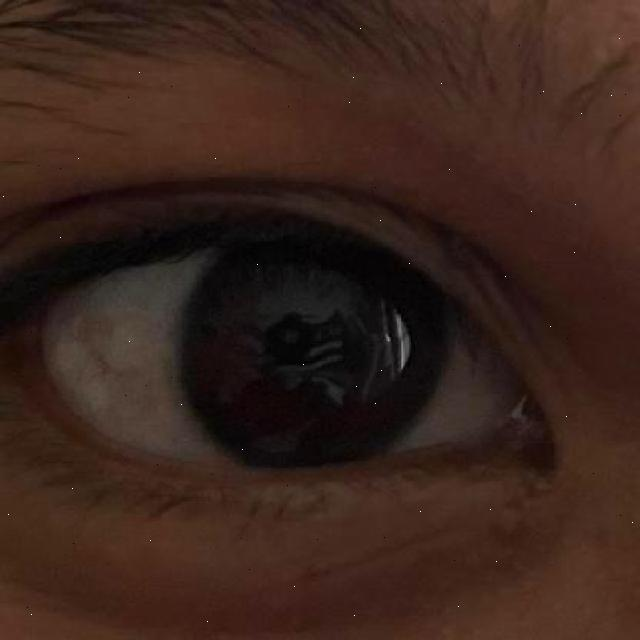Normal: (177, 210, 449, 479)
